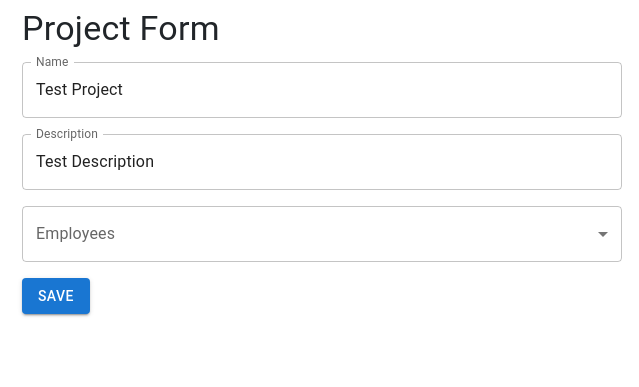
Test case: ProjectComponent › displays validation errors for empty fields
Clear the field labelled "Name" at (322, 90), box [22,62,622,118]
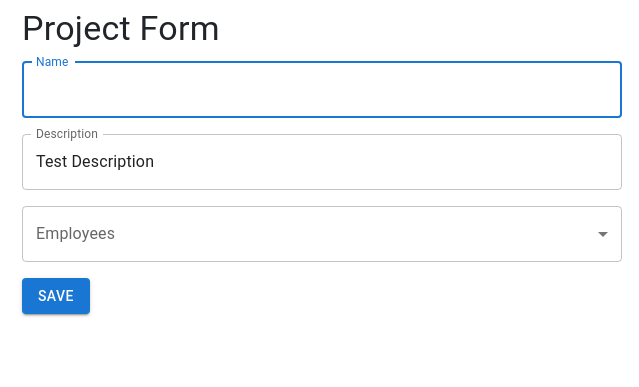
Clear the field labelled "Description" at (322, 162), box [22,134,622,190]
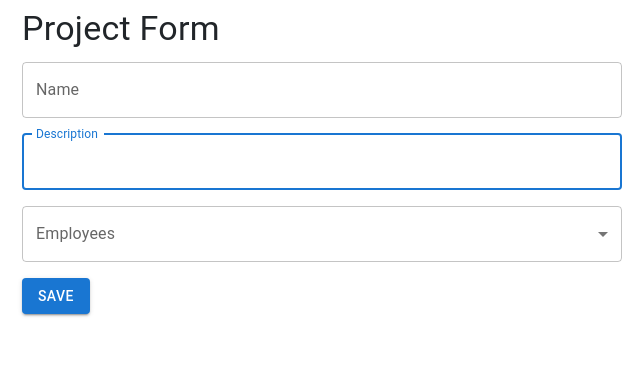
Click the button "Save".
click(56, 296)  # box [22,278,90,314]
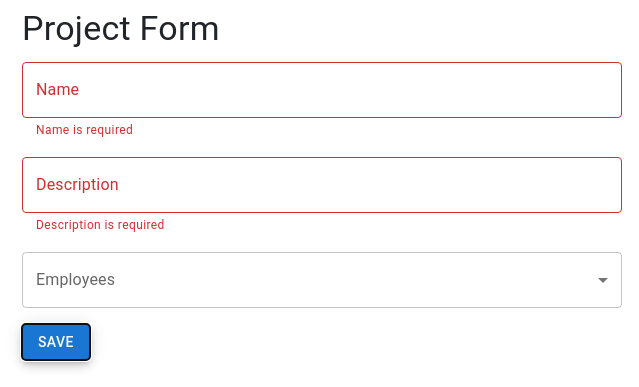
Expected: the text "Name is required" is shown, [36,123,133,137]
Expected: the text "Description is required" is shown, [36,218,165,232]
